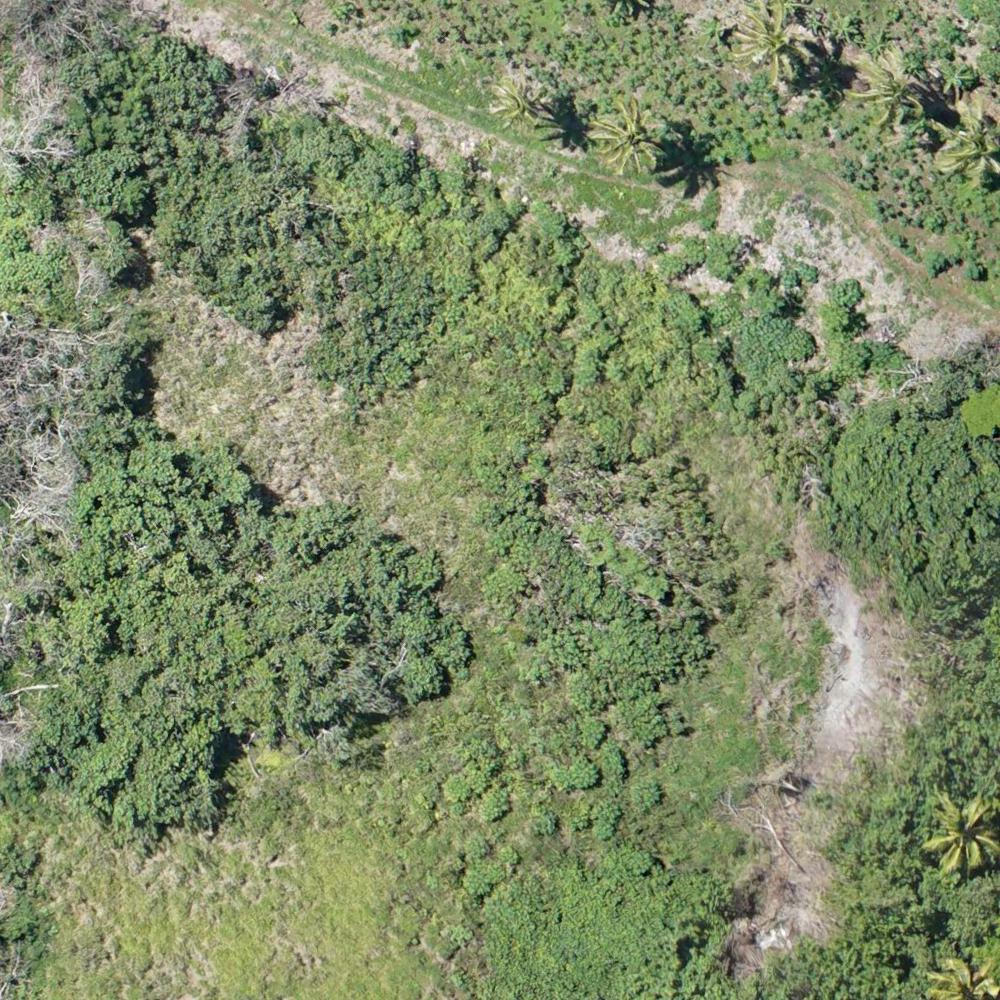Palm: (920, 794, 1000, 877), (737, 5, 819, 81), (853, 56, 929, 132), (595, 96, 671, 171), (488, 74, 542, 131)
